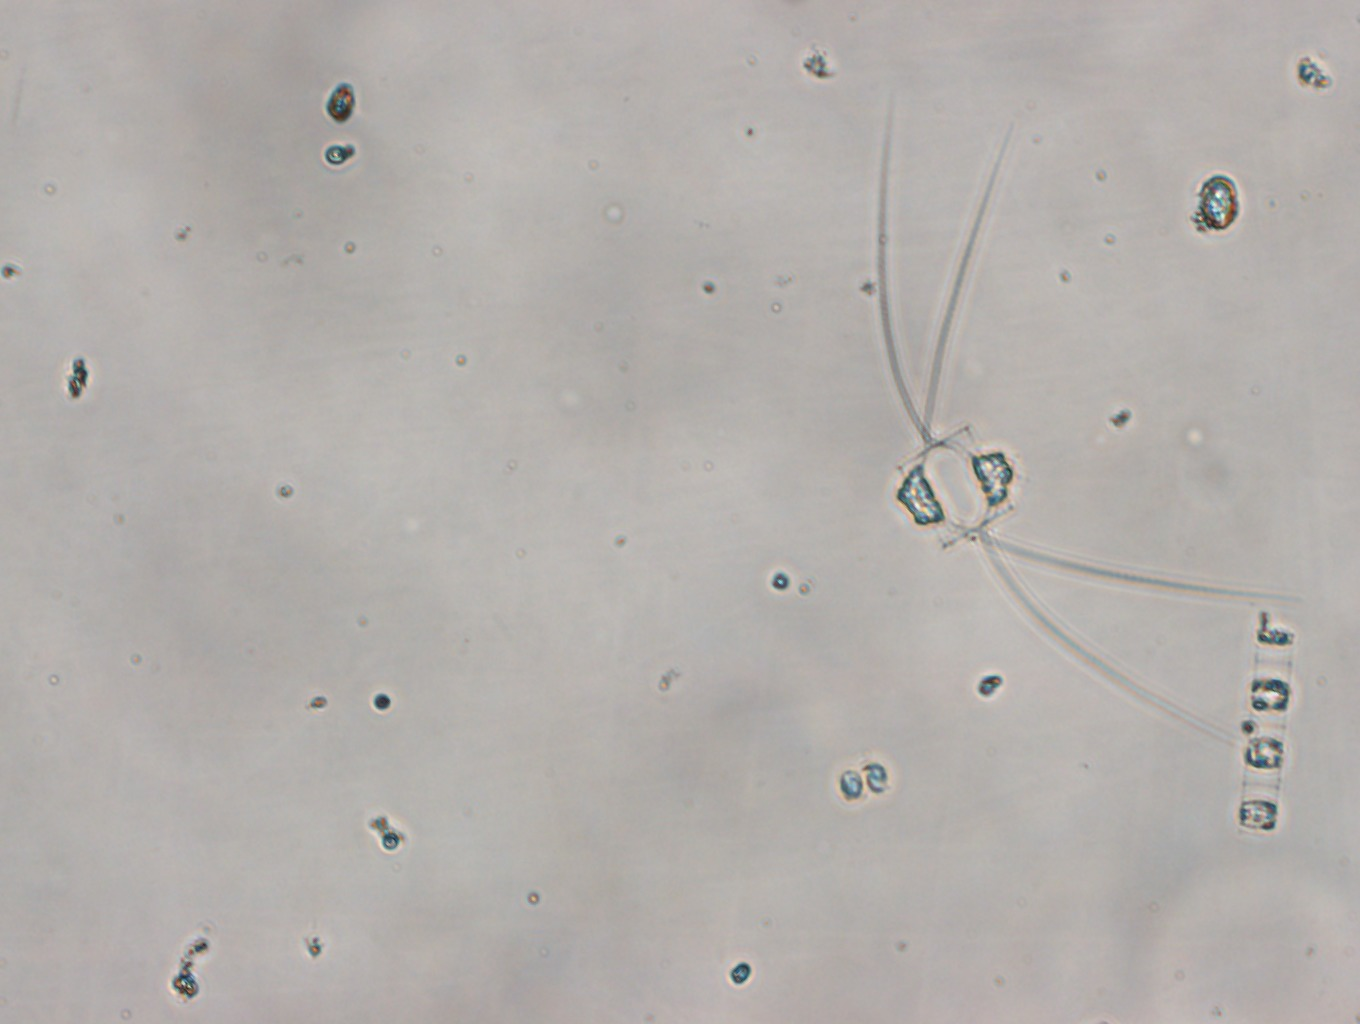chaetoceros: (878, 95, 1305, 744)
skeletonema: (1237, 611, 1295, 834)
